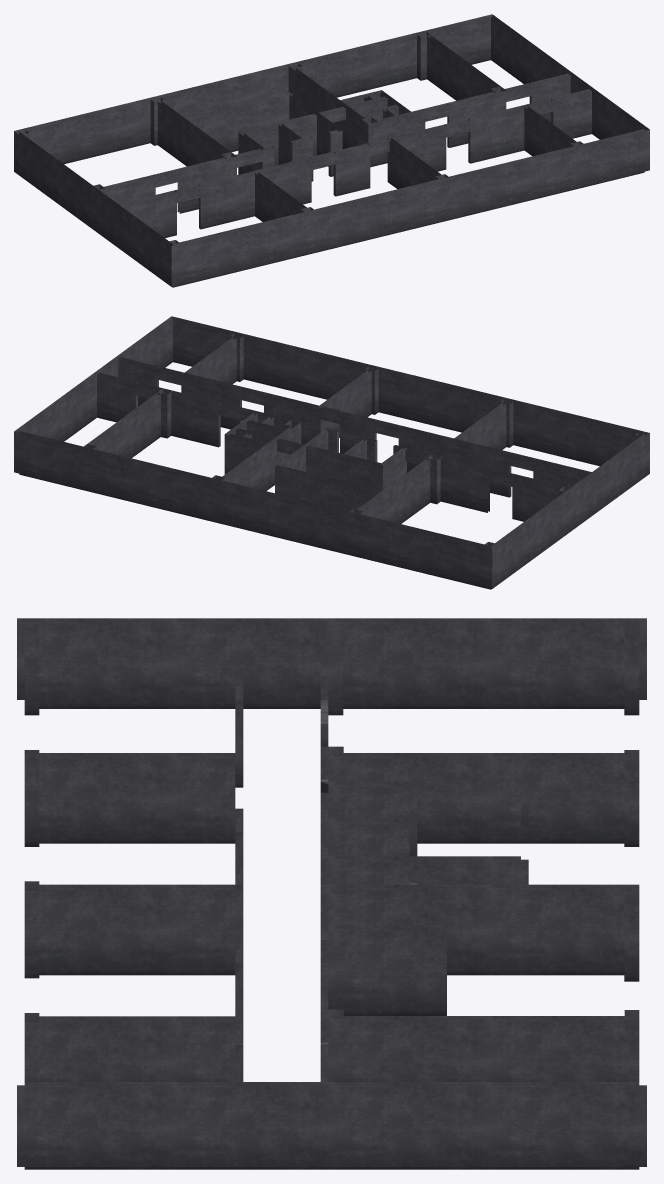
The model's file is 5f墙体.obj.
The picture shows the model from 3 angles, top to bottom: view 1: azimuth 30°, elevation 25°; view 2: azimuth 150°, elevation 25°; view 3: azimuth 270°, elevation 25°; orthographic projection. The views are drawn at different scales.
Visible parts, largest first — view 1: Line008; view 2: Line008; view 3: Line008.
Part boxes in pixels (x1,y1,x2,y2): Line008: (14,14,649,287); Line008: (14,316,649,589); Line008: (17,618,646,1169).
Size of the model in its own units: 3437 by 300 by 1961.
